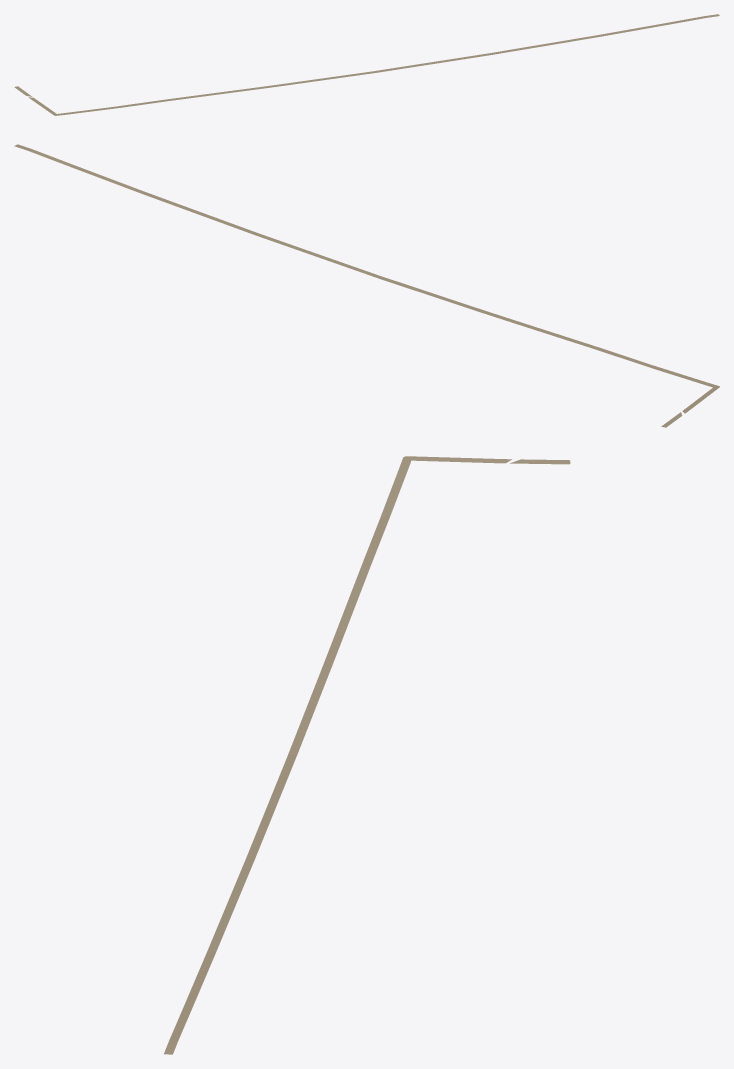
The model's file is farm_16_24_track.glb.
The picture shows the model from 3 angles, top to bottom: view 1: azimuth 30°, elevation 25°; view 2: azimuth 150°, elevation 25°; view 3: azimuth 270°, elevation 25°; orthographic projection. The views are drawn at different scales.
Visible parts, largest first — view 1: geometry_0; view 2: geometry_0; view 3: geometry_0.
Part boxes in pixels (x1=…): geometry_0: x1=14, y1=14, x2=719, y2=115; geometry_0: x1=14, y1=144, x2=719, y2=427; geometry_0: x1=164, y1=456, x2=570, y2=1054.
Bounding box in the file's own units: 497 × 5.56 × 144.
